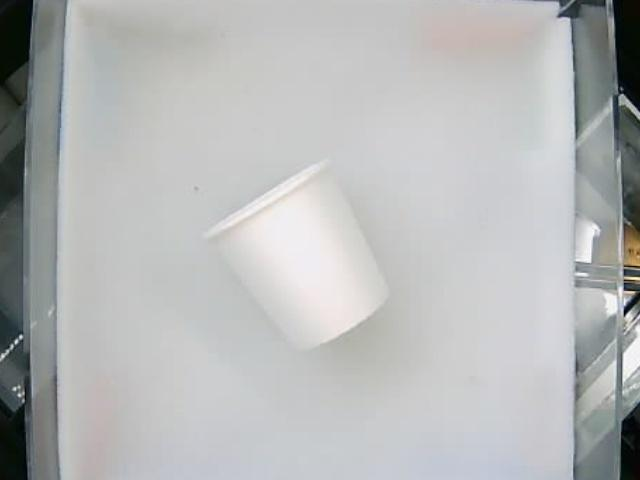Cup: (208, 158, 390, 351)
